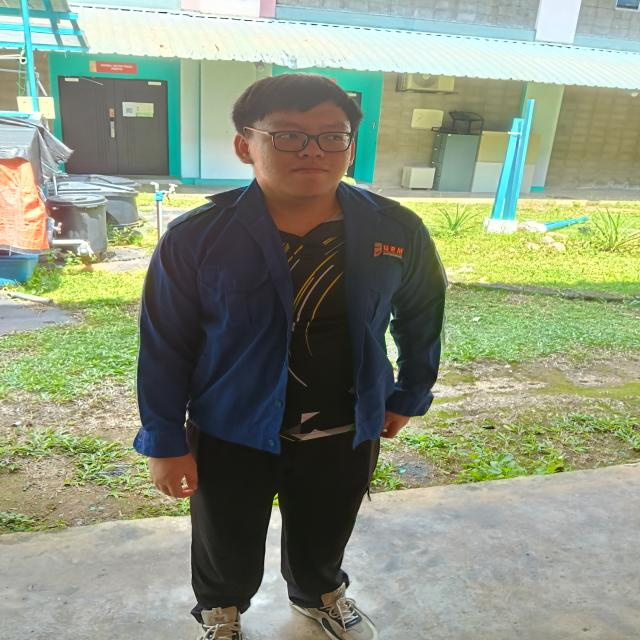person_with_labcoat: (134, 73, 446, 640)
